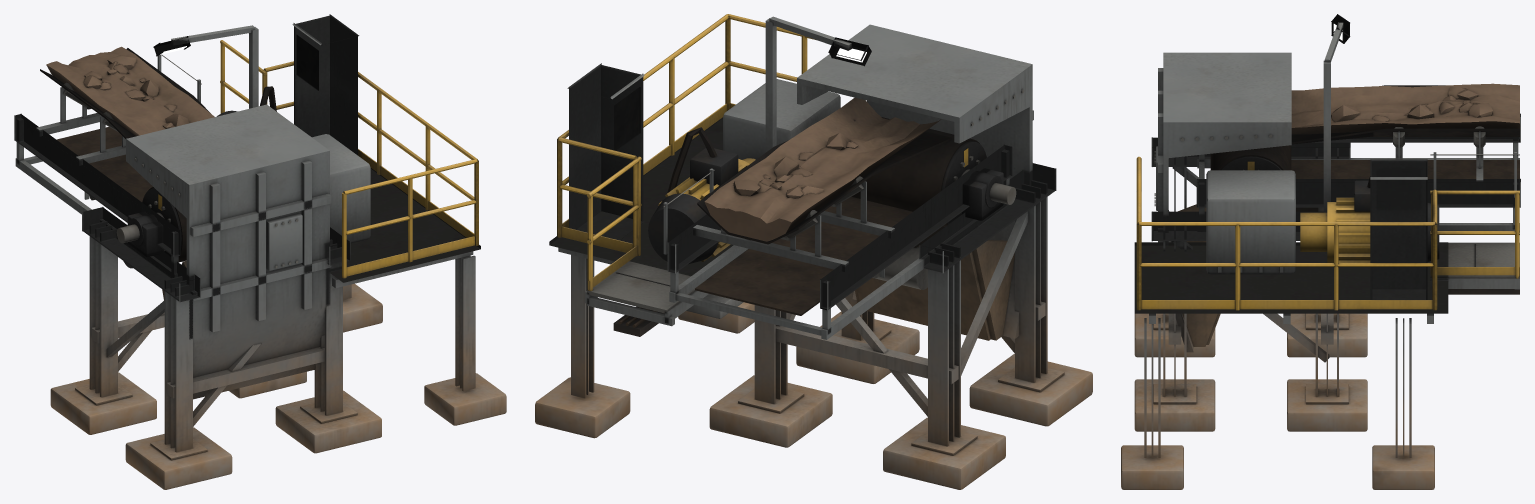
File: conveyor-head-pulley-v1-lod0.glb
3 views of the same model, side by side, from view 1: azimuth 30°, elevation 25°; view 2: azimuth 150°, elevation 25°; view 3: azimuth 270°, elevation 25° (orthographic). The views are drawn at different scales.
Parts seen in each view (by area): view 1: body.003, pulley_mesh; view 2: body.003, pulley_mesh; view 3: body.003, pulley_mesh.
Part boxes in pixels (box(x1,y1,x2,y2)): body.003: box(14, 14, 506, 489); pulley_mesh: box(116, 187, 186, 262); body.003: box(535, 14, 1092, 489); pulley_mesh: box(852, 117, 1016, 226); body.003: box(1121, 14, 1520, 489); pulley_mesh: box(1210, 145, 1291, 170).
Bounding box in the file's own units: 4.4 × 4.4 × 4.46.
Materials: 2 (1 with a texture image).
